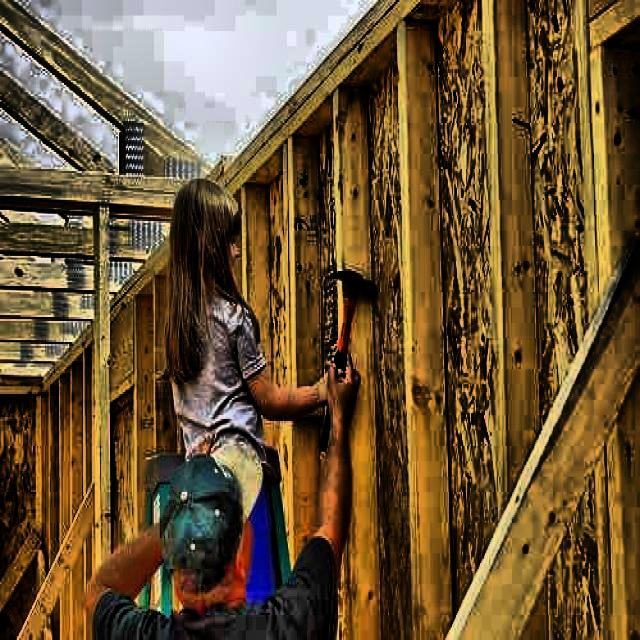hammer: (316, 268, 382, 454)
